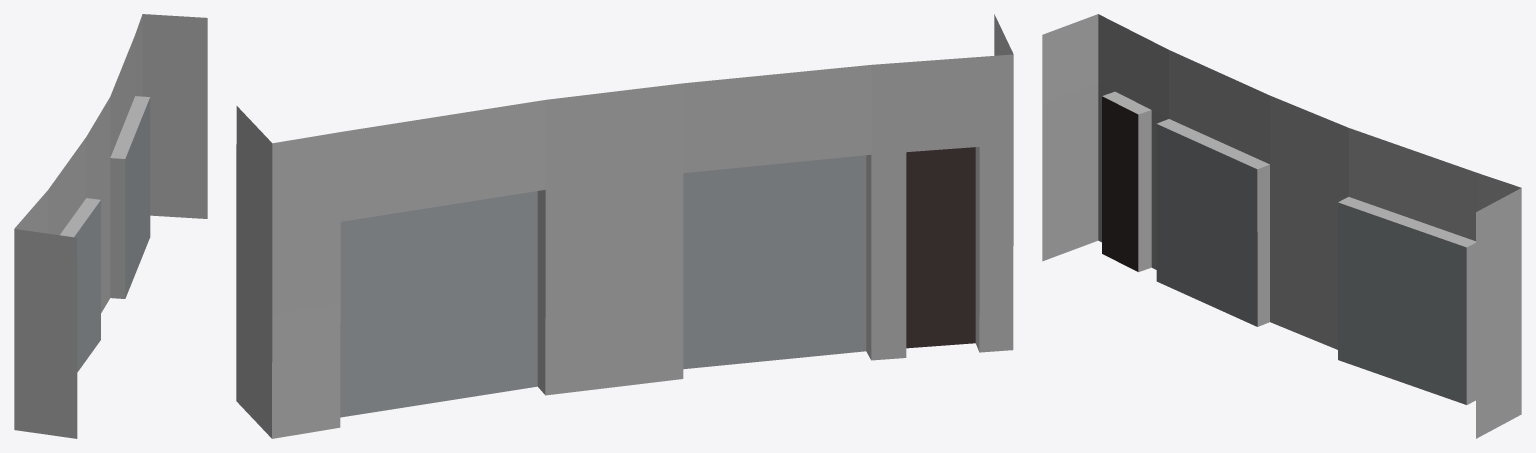
Rendered from MCM_2W_003.fbx.
3 renders of one model, left to right at view 1: azimuth 30°, elevation 25°; view 2: azimuth 150°, elevation 25°; view 3: azimuth 270°, elevation 25°, orthographic. The views are drawn at different scales.
Visible parts, largest first — view 1: MCM_2W_003; view 2: MCM_2W_003; view 3: MCM_2W_003.
Part boxes in pixels (x1,y1,x2,y2): MCM_2W_003: (14, 14, 207, 438); MCM_2W_003: (236, 14, 1013, 438); MCM_2W_003: (1042, 14, 1521, 438).
Bounding box in the file's own units: 7.83 × 8 × 4.17.
Materials: 1 (1 with a texture image).
